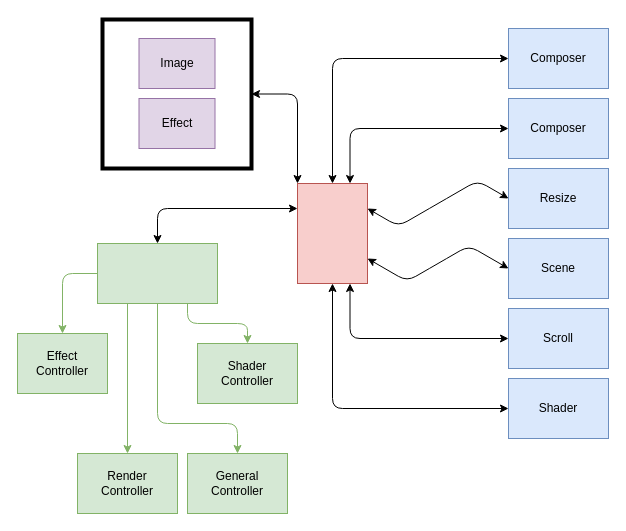
This 626x531 diagram has some shape labels left out. Here are the shapes that lost their labels. From the top down, the box of each, then its label:
(296, 182, 368, 284): Core
(96, 242, 218, 304): Controllers
